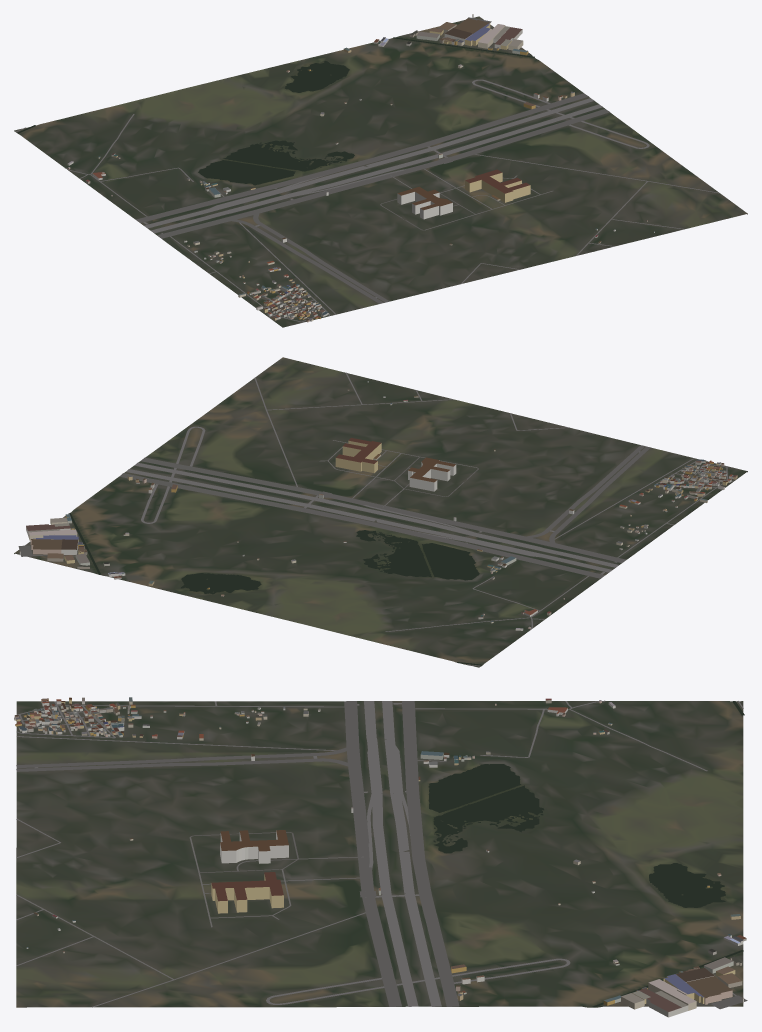
The picture shows the model from 3 angles, top to bottom: view 1: azimuth 30°, elevation 25°; view 2: azimuth 150°, elevation 25°; view 3: azimuth 270°, elevation 25°; orthographic projection. The views are drawn at different scales.
Visible parts, largest first — view 1: ground, roads, buildings, water; view 2: ground, roads, buildings, water; view 3: ground, roads, buildings, water.
Boxes of the visible parts, x1,y1,x2,y2 form: ground: (14,16,747,327); roads: (16,17,719,322); buildings: (67,14,654,322); water: (17,37,534,185); ground: (14,357,747,667); roads: (18,372,733,666); buildings: (19,381,737,630); water: (68,513,482,665); ground: (16,701,743,1007); roads: (16,700,747,1009); buildings: (14,697,746,1017); water: (428,701,744,1007).
Size of the model in its own units: 1453 by 30.11 by 1416.
